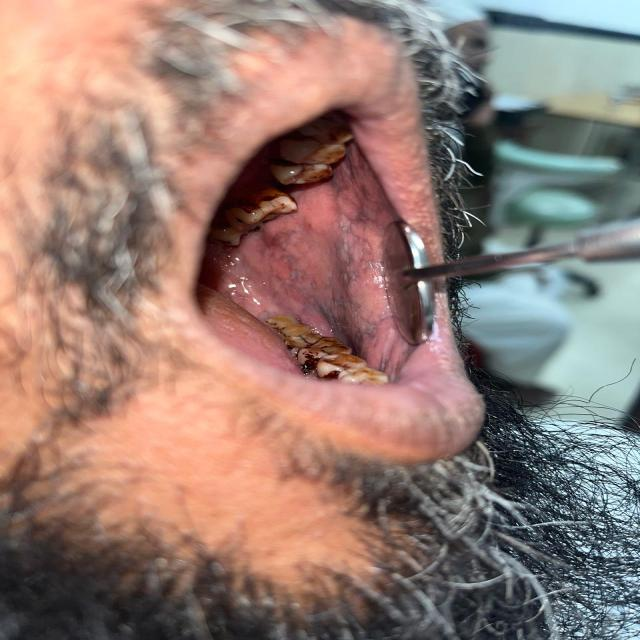leukoplakia-like-detection: (223, 140, 403, 358)
processing_area: (199, 146, 413, 380)
